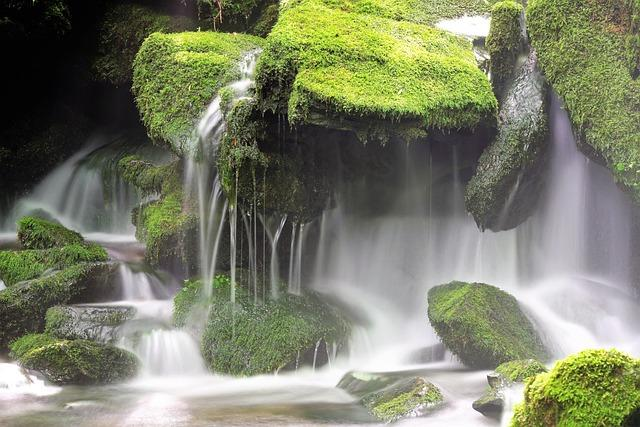Non_Gorille: (110, 11, 626, 399)
